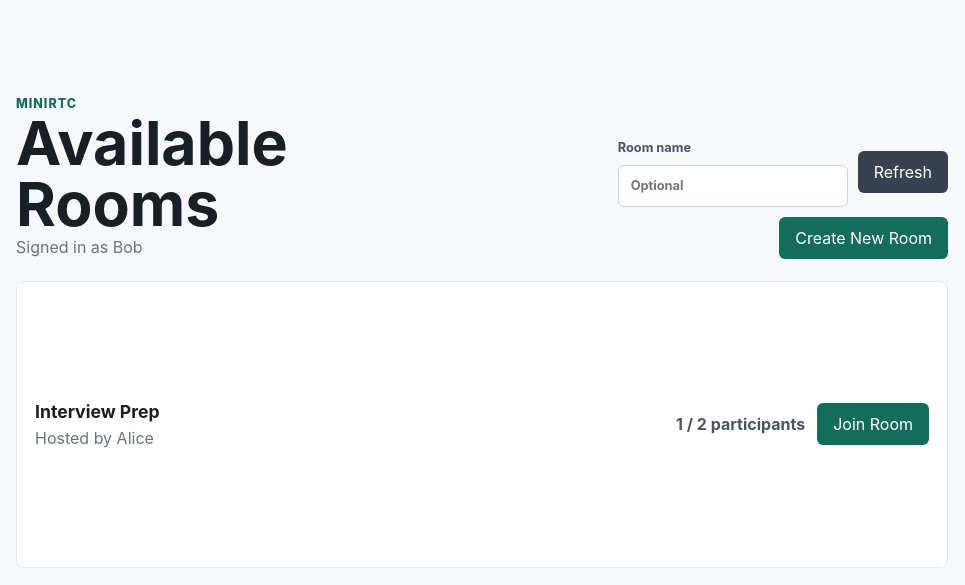
LobbyPage › refreshes the room list when joining a stale room fails
The width and height of the screenshot is (965, 585).
Expected: the heading "Interview Prep" is shown, top-left (35, 399), bottom-right (160, 426)
Click the button "Join Room" at (873, 424), box top-left (817, 404), bottom-right (929, 446)
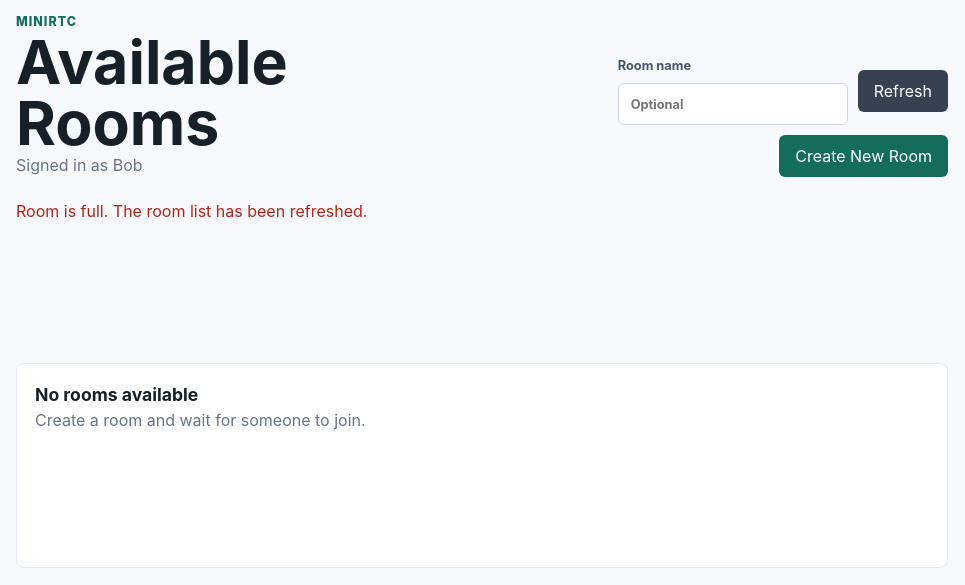
Result: the text "Room is full. The room list has been refreshed." is shown at top-left (16, 201), bottom-right (367, 221)
Result: the heading "No rooms available" is shown at top-left (35, 384), bottom-right (198, 404)
